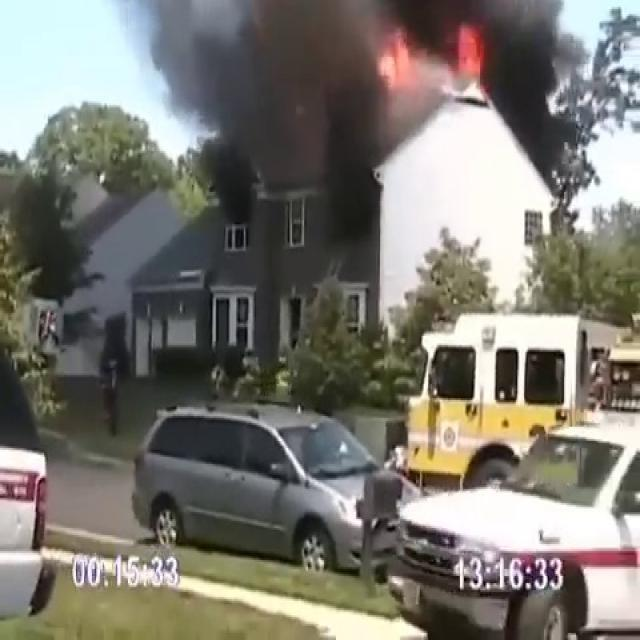Smoke: (133, 0, 576, 242)
